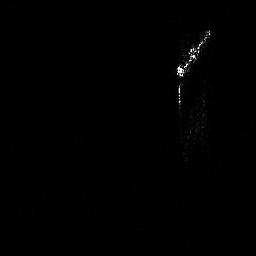ship: (172, 26, 214, 79)
